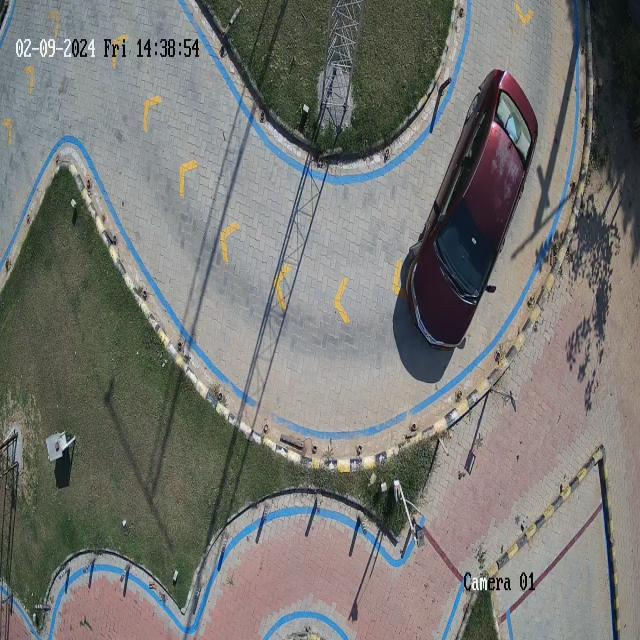car: (406, 71, 538, 348)
